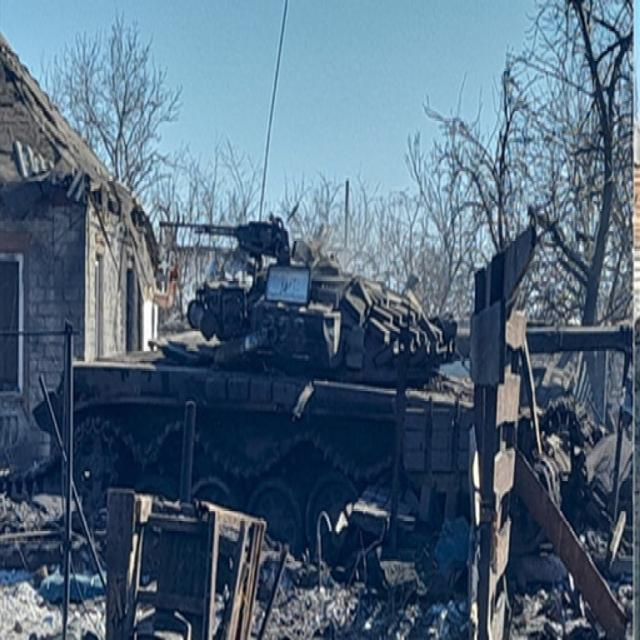TANK: (42, 211, 630, 571)
